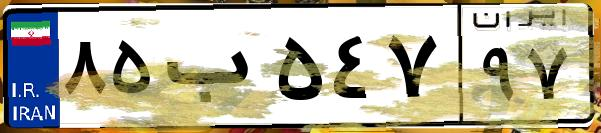4: (330, 28, 385, 110)
5: (270, 28, 330, 110), (110, 28, 158, 98)
7: (385, 28, 445, 110), (525, 38, 570, 115)
8: (57, 26, 110, 100)
9: (475, 38, 525, 113)
ب: (158, 20, 270, 120)
